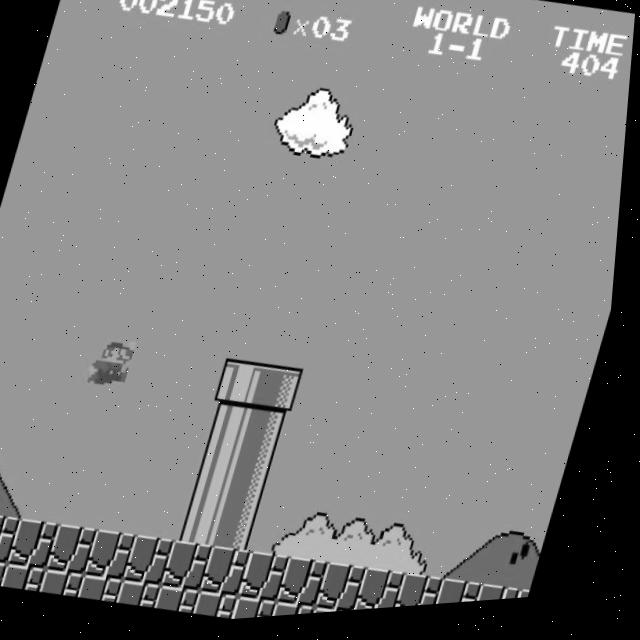11- little_mario: (88, 333, 144, 393)
14- pipe: (194, 450, 248, 507), (182, 495, 235, 552), (221, 501, 274, 558), (233, 456, 286, 512), (207, 405, 259, 461), (246, 411, 298, 466)
15- pipe_head: (219, 359, 272, 416), (258, 365, 311, 422)
17- undestructible_block: (15, 516, 69, 573), (169, 540, 223, 597), (285, 558, 339, 615), (54, 522, 107, 579), (93, 528, 146, 585), (131, 534, 184, 591), (208, 546, 261, 603), (247, 552, 300, 609), (324, 564, 377, 619), (363, 571, 416, 616), (402, 576, 454, 614), (0, 510, 30, 567), (48, 567, 95, 601), (125, 579, 172, 613), (164, 585, 211, 619), (441, 582, 493, 612), (9, 562, 56, 595), (87, 574, 134, 607), (202, 592, 249, 625), (241, 597, 288, 624), (480, 589, 531, 610), (280, 604, 326, 621), (0, 555, 18, 589), (319, 609, 364, 619), (519, 596, 540, 607)
